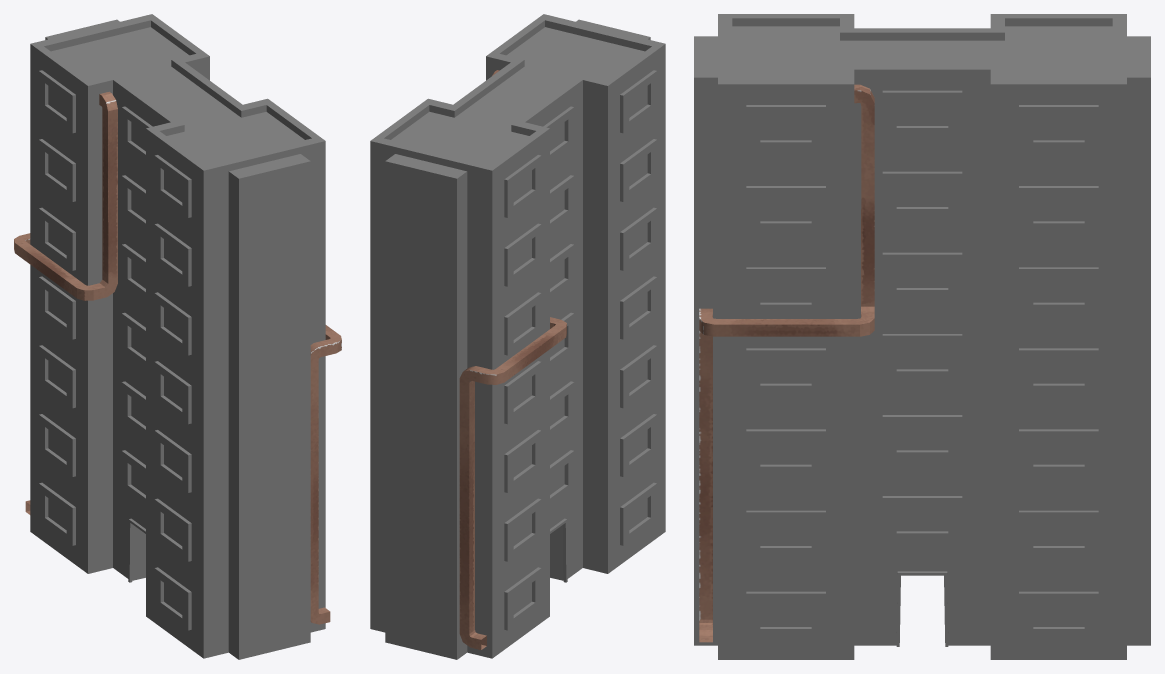
Rendered from H shaped block.fbx.
3 renders of one model, left to right at view 1: azimuth 30°, elevation 25°; view 2: azimuth 150°, elevation 25°; view 3: azimuth 270°, elevation 25°, orthographic. The views are drawn at different scales.
Parts seen in each view (by area): view 1: Cube, Plane.005; view 2: Cube, Plane.005; view 3: Cube, Plane.005.
Boxes of the visible parts, x1,y1,x2,y2 form: Cube: (30, 14, 325, 659); Plane.005: (14, 91, 341, 624); Cube: (370, 14, 665, 659); Plane.005: (459, 70, 566, 649); Cube: (694, 14, 1150, 659); Plane.005: (699, 84, 874, 642).
Bounding box in the file's own units: 248 × 776 × 558.
